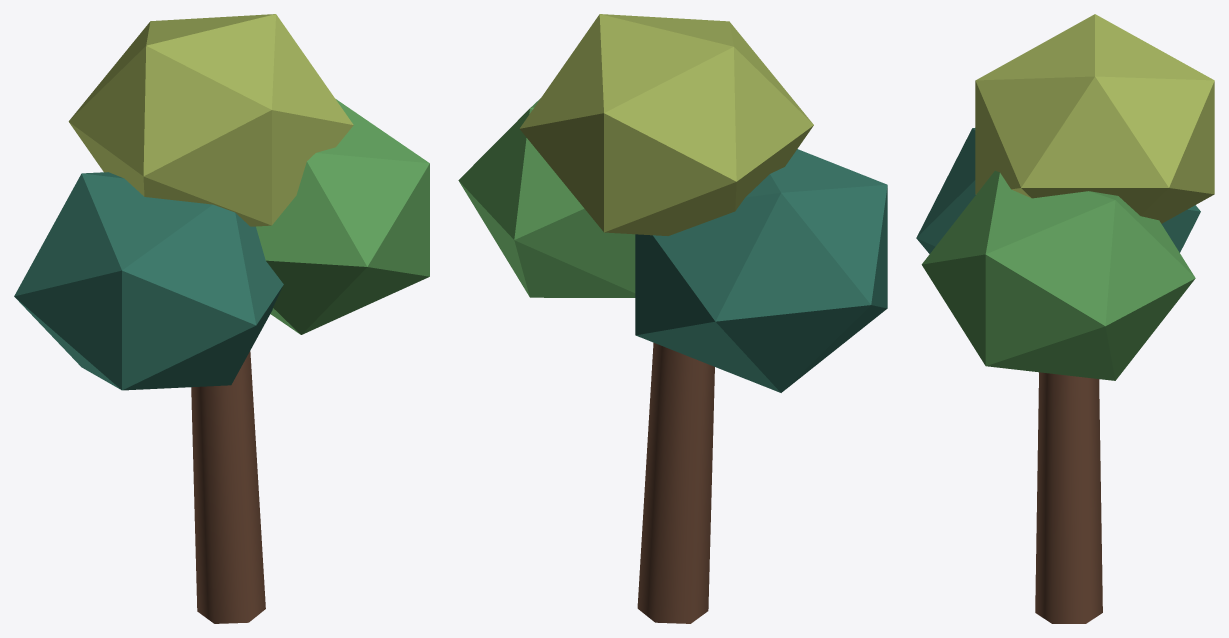
File: tree-far.glb
The picture shows the model from 3 angles, left to right: view 1: azimuth 30°, elevation 25°; view 2: azimuth 150°, elevation 25°; view 3: azimuth 270°, elevation 25°; orthographic projection. The views are drawn at different scales.
Bounding box in the file's own units: 4.3 × 5.99 × 2.87.
